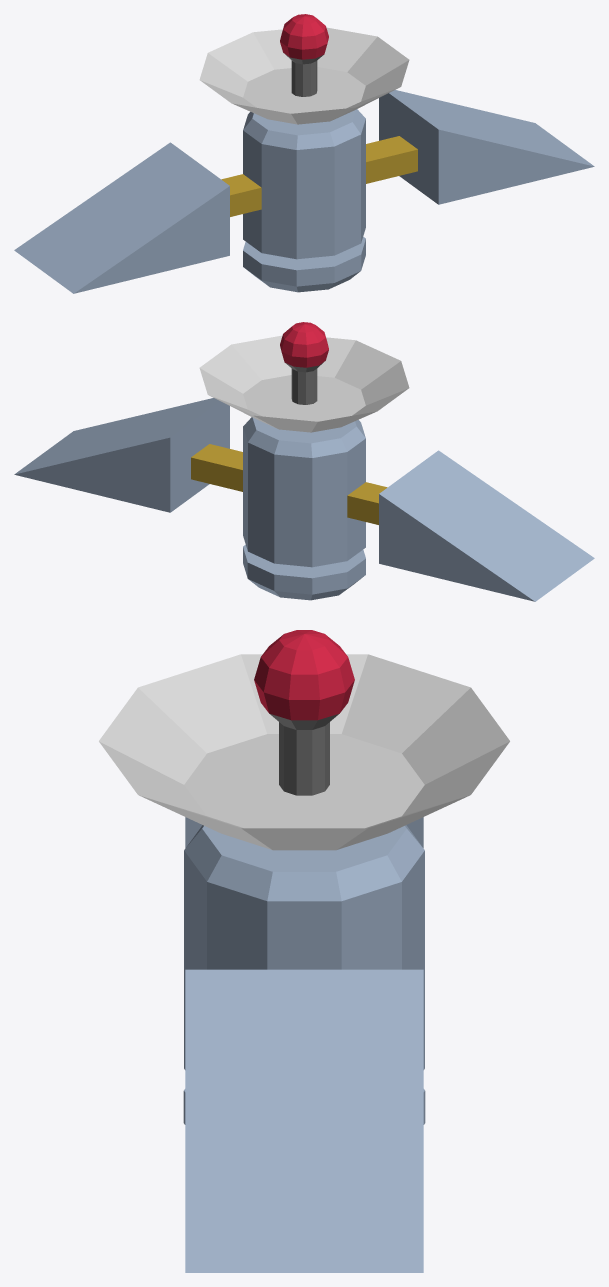
File: satellite.fbx
The picture shows the model from 3 angles, top to bottom: view 1: azimuth 30°, elevation 25°; view 2: azimuth 150°, elevation 25°; view 3: azimuth 270°, elevation 25°; orthographic projection. The views are drawn at different scales.
Parts seen in each view (by area): view 1: Cylinder; view 2: Cylinder; view 3: Cylinder.
Part boxes in pixels (<box>): Cylinder: <box>14,14,594,293</box>; Cylinder: <box>14,322,594,601</box>; Cylinder: <box>99,630,509,1272</box>.
Bounding box in the file's own units: 1000 × 468 × 342.
